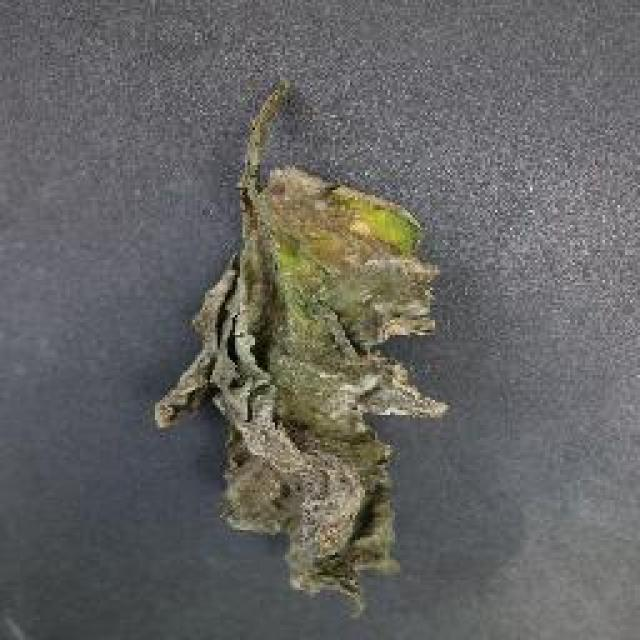Tomato late blight leaf: (154, 102, 444, 618)
